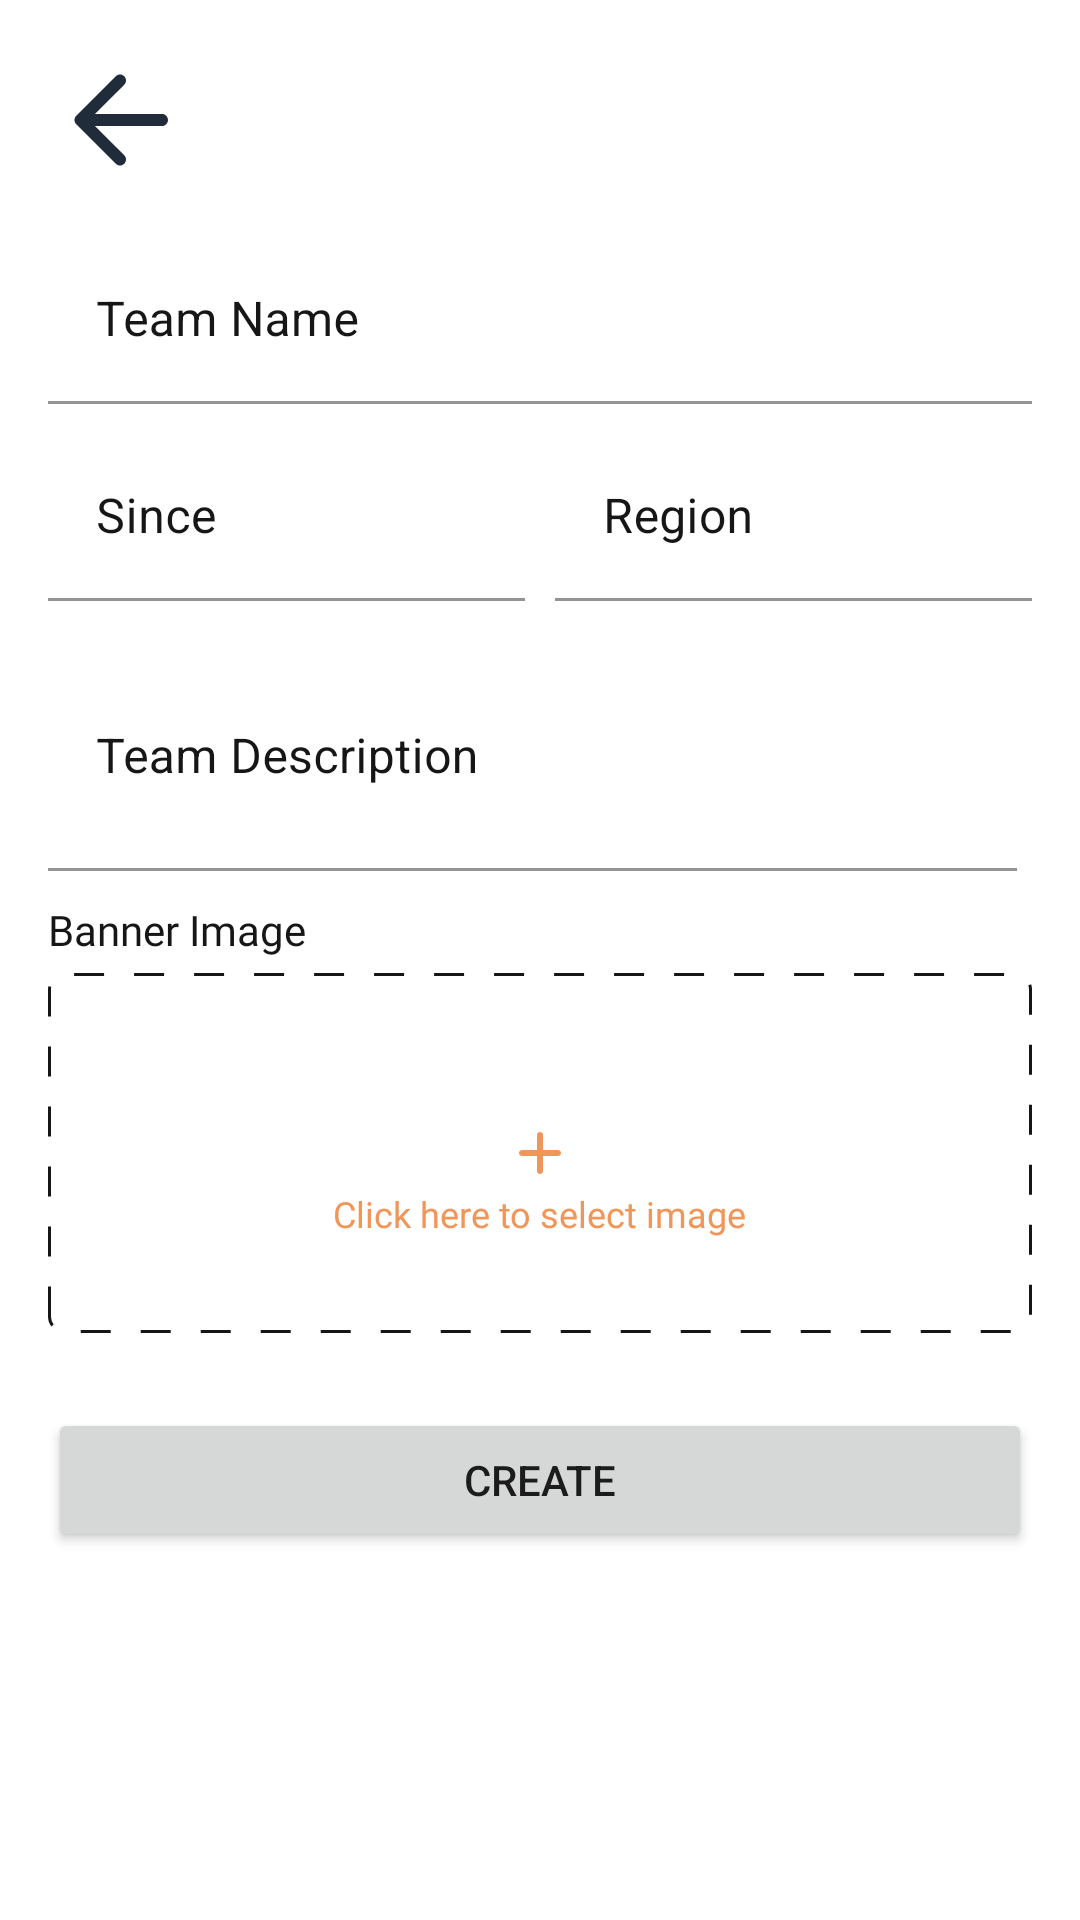

Named icons in this screenshot (1080*1920) and their bounding boxes, (x1, y1, x2, y2):
add: (519, 1132, 561, 1174)
back: (74, 74, 168, 166)
